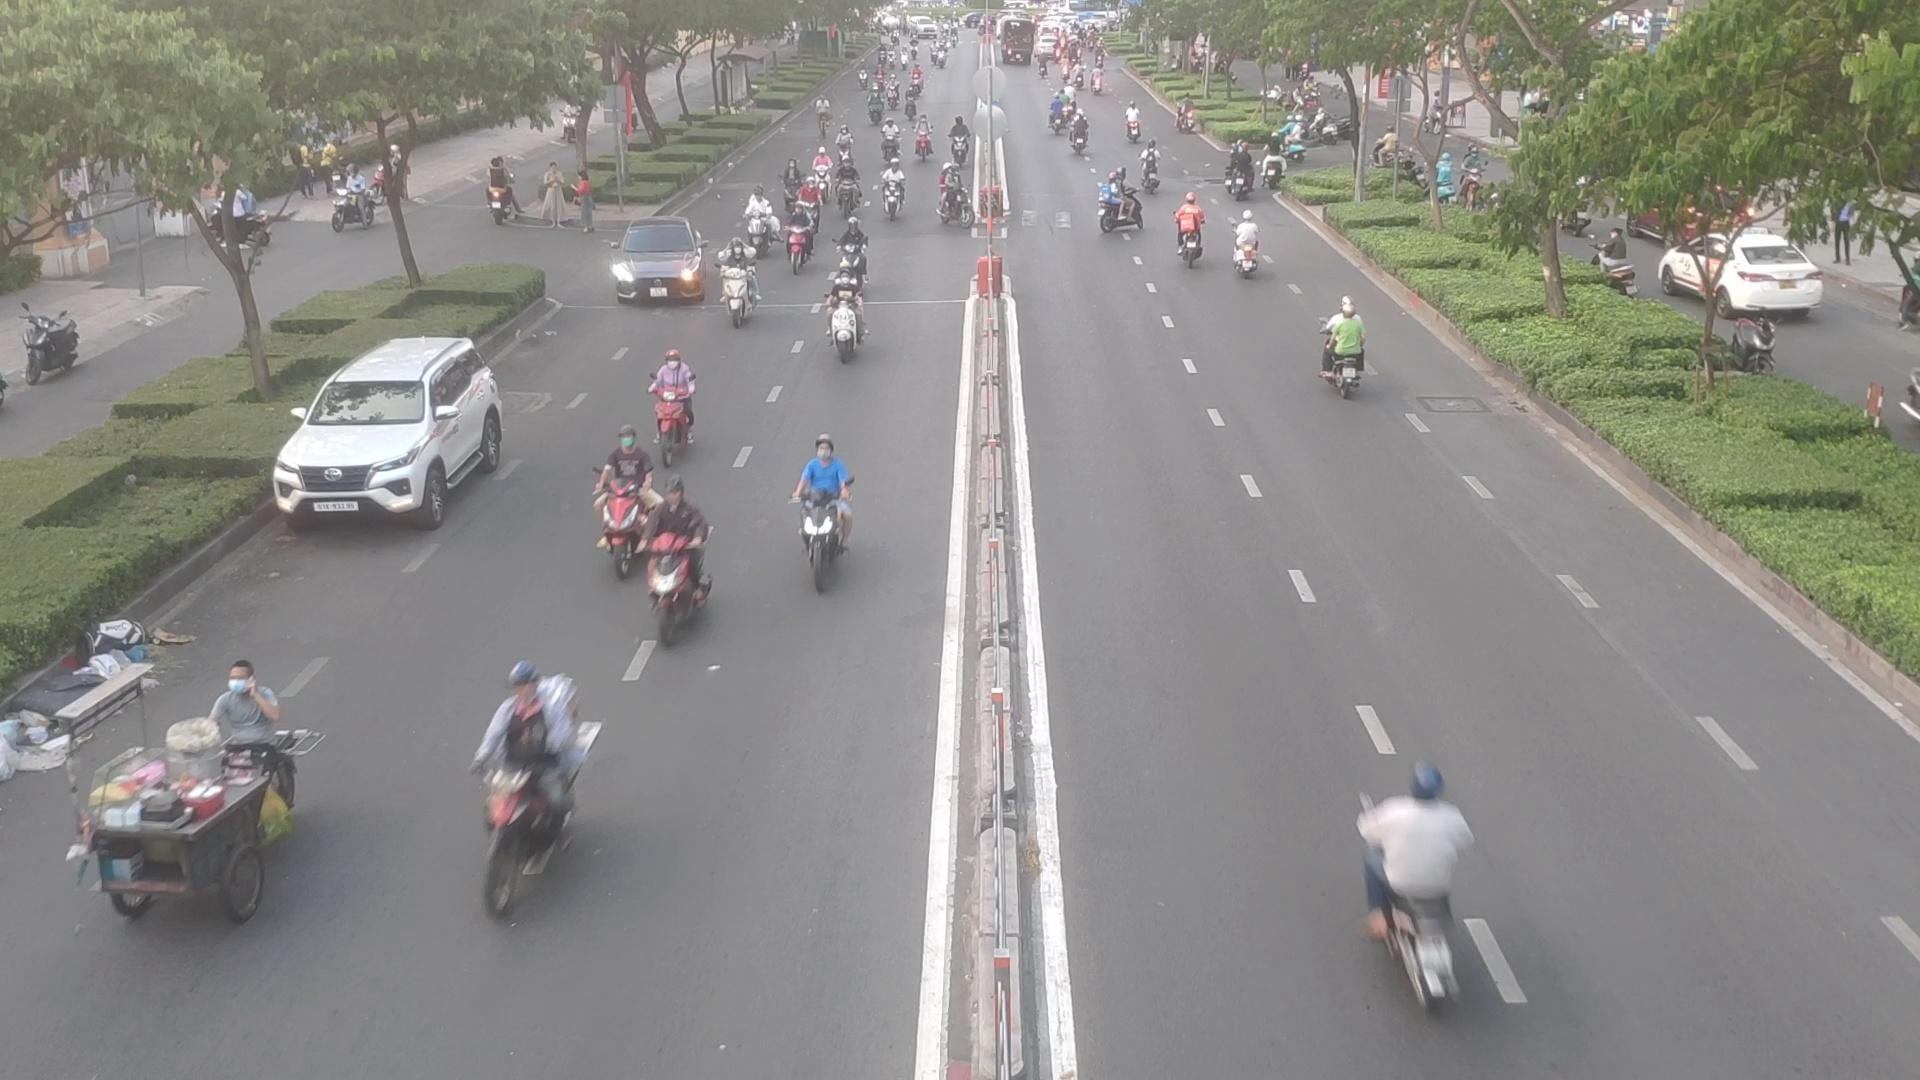car: (272, 342, 520, 524), (607, 235, 705, 306)
motorbike: (460, 665, 601, 891), (1353, 754, 1470, 1004), (795, 454, 858, 595), (596, 458, 651, 584), (638, 356, 705, 458), (1320, 309, 1383, 401), (822, 289, 872, 363), (1093, 177, 1138, 235), (720, 268, 761, 330), (735, 193, 779, 243), (1234, 222, 1273, 280), (1172, 207, 1208, 268), (1138, 144, 1171, 189), (787, 225, 818, 273), (1125, 107, 1151, 142)
